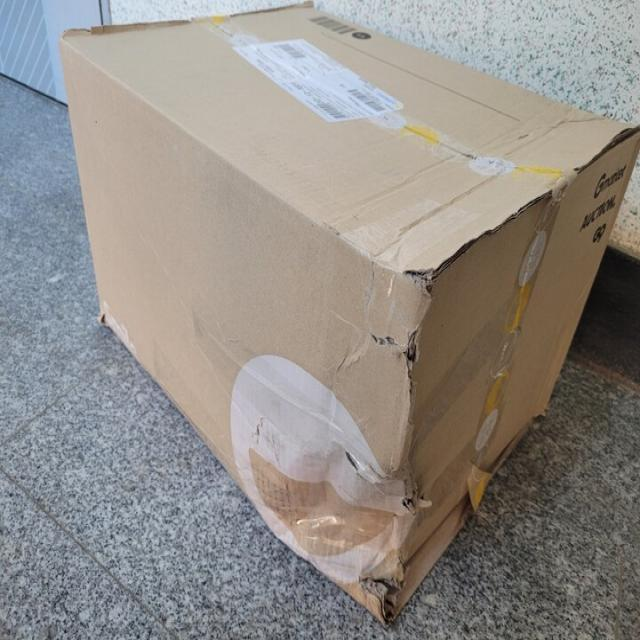damaged: (356, 564, 411, 622), (376, 329, 426, 378)
